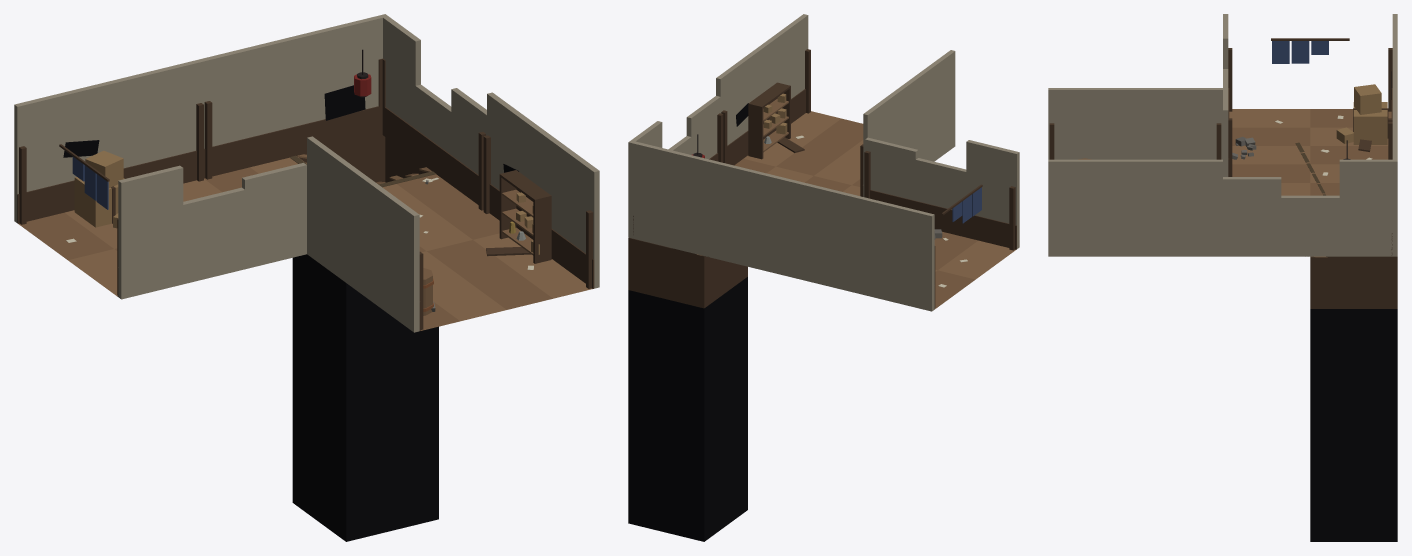
File: __C_pit.fbx
3 views of the same model, side by side, from view 1: azimuth 30°, elevation 25°; view 2: azimuth 150°, elevation 25°; view 3: azimuth 270°, elevation 25° (orthographic). The views are drawn at different scales.
Visible parts, largest first — view 1: __C_pit, __C_pit_Deco; view 2: __C_pit, __C_pit_Deco; view 3: __C_pit, __C_pit_Deco.
Boxes of the visible parts, <box> form: __C_pit: <box>14,14,599,332</box>; __C_pit_Deco: <box>17,49,594,541</box>; __C_pit: <box>628,14,1019,311</box>; __C_pit_Deco: <box>628,49,1016,541</box>; __C_pit: <box>1048,14,1397,256</box>; __C_pit_Deco: <box>1049,38,1397,541</box>.
Bounding box in the file's own units: 1.33 × 1.33 × 1.6.
